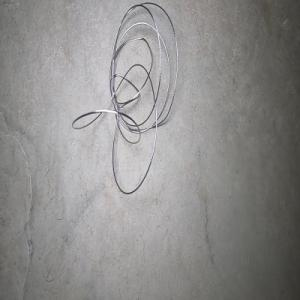Wire: (71, 2, 178, 194)
